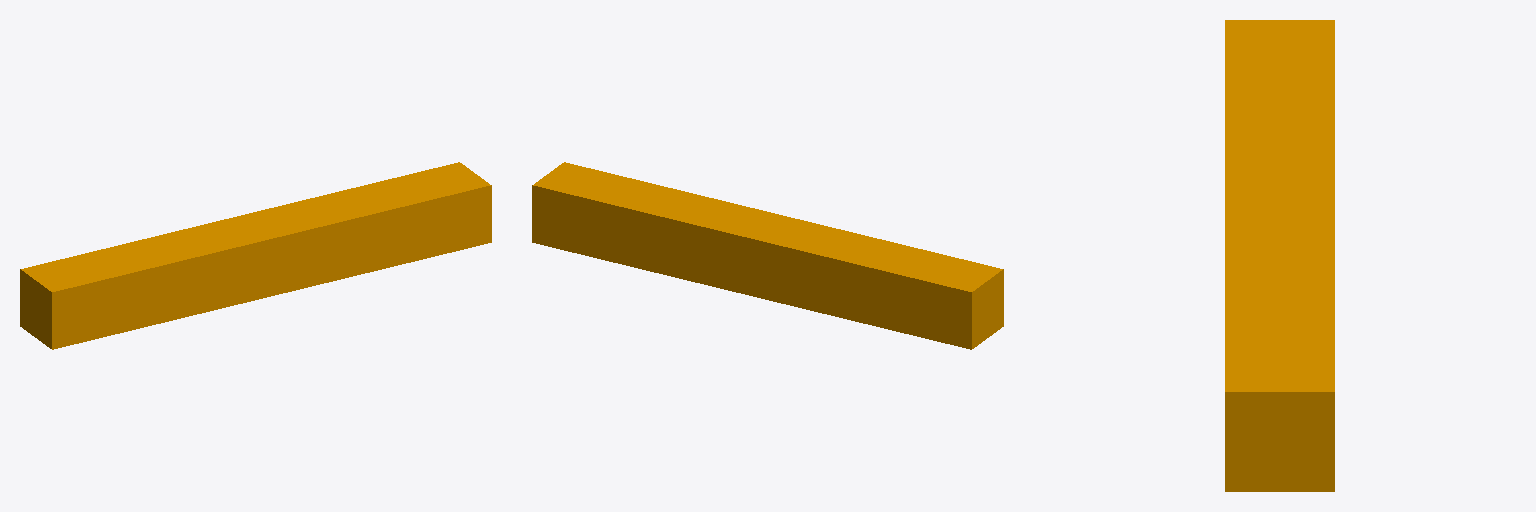
robot.urdf — beam_s:
<?xml version="1.0" ?>
<robot name="beam_s">

<link name="beam_s_base_link">
  <inertial>
    <origin xyz="0.0 0.0025 0.0" rpy="0 0 0"/>
    <mass value="0.00785"/>
    <inertia ixx="0.0" iyy="1e-06" izz="1e-06" ixy="0.0" iyz="0.0" ixz="0.0"/>
  </inertial>
  <visual>
    <origin xyz="0 0 0" rpy="0 0 0"/>
    <geometry>
      <mesh filename="meshes/beam_s_base_link.stl" scale="0.001 0.001 0.001"/>
    </geometry>
    <material name="silver"/>
  </visual>
  <collision>
    <origin xyz="0 0 0" rpy="0 0 0"/>
    <geometry>
      <mesh filename="meshes/beam_s_base_link.stl" scale="0.001 0.001 0.001"/>
    </geometry>
  </collision>
</link>

<link name="beam_s_APS1_1">
  <inertial>
    <origin xyz="8.153811604686948e-20 0.0 7.806255641895632e-18" rpy="0 0 0"/>
    <mass value="3.288200310757317e-05"/>
    <inertia ixx="0.0" iyy="0.0" izz="0.0" ixy="0.0" iyz="0.0" ixz="-0.0"/>
  </inertial>
  
  
</link>

<link name="beam_s_APS2_1">
  <inertial>
    <origin xyz="1.232595164407831e-34 8.673617379884035e-19 6.661338147750939e-18" rpy="0 0 0"/>
    <mass value="3.288200310757317e-05"/>
    <inertia ixx="0.0" iyy="0.0" izz="0.0" ixy="-0.0" iyz="-0.0" ixz="-0.0"/>
  </inertial>
  
  
</link>

<link name="beam_s_APS4_1">
  <inertial>
    <origin xyz="-2.0710099118192537e-19 0.0 0.0" rpy="0 0 0"/>
    <mass value="3.288200310757317e-05"/>
    <inertia ixx="0.0" iyy="0.0" izz="0.0" ixy="0.0" iyz="0.0" ixz="-0.0"/>
  </inertial>
  
  
</link>

<link name="beam_s_APB_1">
  <inertial>
    <origin xyz="-3.469446951953614e-18 0.0 1.687989959549192e-50" rpy="0 0 0"/>
    <mass value="3.288200310757317e-05"/>
    <inertia ixx="0.0" iyy="0.0" izz="0.0" ixy="0.0" iyz="0.0" ixz="0.0"/>
  </inertial>
  
  
</link>

<link name="beam_s_APS3_1">
  <inertial>
    <origin xyz="0.0 0.0 0.0" rpy="0 0 0"/>
    <mass value="3.288200310757317e-05"/>
    <inertia ixx="0.0" iyy="0.0" izz="0.0" ixy="0.0" iyz="-0.0" ixz="0.0"/>
  </inertial>
  
  
</link>

<link name="beam_s_APT_1">
  <inertial>
    <origin xyz="0.0 0.0 -6.661338147750939e-18" rpy="0 0 0"/>
    <mass value="3.288200310757317e-05"/>
    <inertia ixx="0.0" iyy="0.0" izz="0.0" ixy="0.0" iyz="-0.0" ixz="-0.0"/>
  </inertial>
  
  
</link>

<joint name="Rigid 1" type="fixed">
  <origin xyz="0.0 0.0025 0.0025" rpy="0 0 0"/>
  <parent link="beam_s_base_link"/>
  <child link="beam_s_APS1_1"/>
</joint>

<joint name="Rigid 2" type="fixed">
  <origin xyz="0.0 0.005 0.0" rpy="0 0 0"/>
  <parent link="beam_s_base_link"/>
  <child link="beam_s_APS2_1"/>
</joint>

<joint name="Rigid 3" type="fixed">
  <origin xyz="0.0 0.0025 -0.0025" rpy="0 0 0"/>
  <parent link="beam_s_base_link"/>
  <child link="beam_s_APS4_1"/>
</joint>

<joint name="Rigid 4" type="fixed">
  <origin xyz="0.02 0.0025 0.0" rpy="0 0 0"/>
  <parent link="beam_s_base_link"/>
  <child link="beam_s_APB_1"/>
</joint>

<joint name="Rigid 5" type="fixed">
  <origin xyz="0.0 0.0 0.0" rpy="0 0 0"/>
  <parent link="beam_s_base_link"/>
  <child link="beam_s_APS3_1"/>
</joint>

<joint name="Rigid 6" type="fixed">
  <origin xyz="-0.02 0.0025 0.0" rpy="0 0 0"/>
  <parent link="beam_s_base_link"/>
  <child link="beam_s_APT_1"/>
</joint>

</robot>

--- Render facts (derived) ---
The picture shows the robot from 3 angles, left to right: view 1: azimuth 30°, elevation 25°; view 2: azimuth 150°, elevation 25°; view 3: azimuth 270°, elevation 25°; orthographic projection.
Model beam_s with 7 links and 6 joints (6 fixed), rooted at beam_s_base_link, posed all joints at 0.
Links seen in each view (by area): view 1: beam_s_base_link; view 2: beam_s_base_link; view 3: beam_s_base_link.
Link boxes in pixels (bbox=[...]): beam_s_base_link: bbox=[20, 162, 491, 349]; beam_s_base_link: bbox=[532, 162, 1003, 349]; beam_s_base_link: bbox=[1225, 20, 1334, 491].
Size in the robot's own frame: 0.04 by 0.005 by 0.005 metres.
Meshes: 1 distinct files referenced, 1 mesh visuals loaded (1 binary STL).